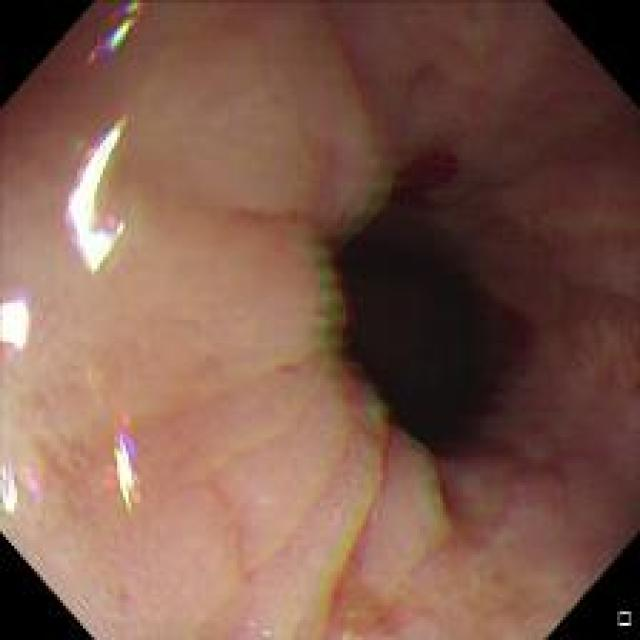color misalignment: (60, 124, 131, 275), (92, 401, 156, 530), (309, 226, 354, 359), (71, 4, 148, 65), (0, 442, 52, 529), (351, 376, 390, 436), (2, 296, 32, 358)
contrast: (315, 165, 544, 496)
specularity: (60, 122, 135, 275), (112, 440, 140, 505), (0, 296, 29, 351), (1, 469, 19, 515)
